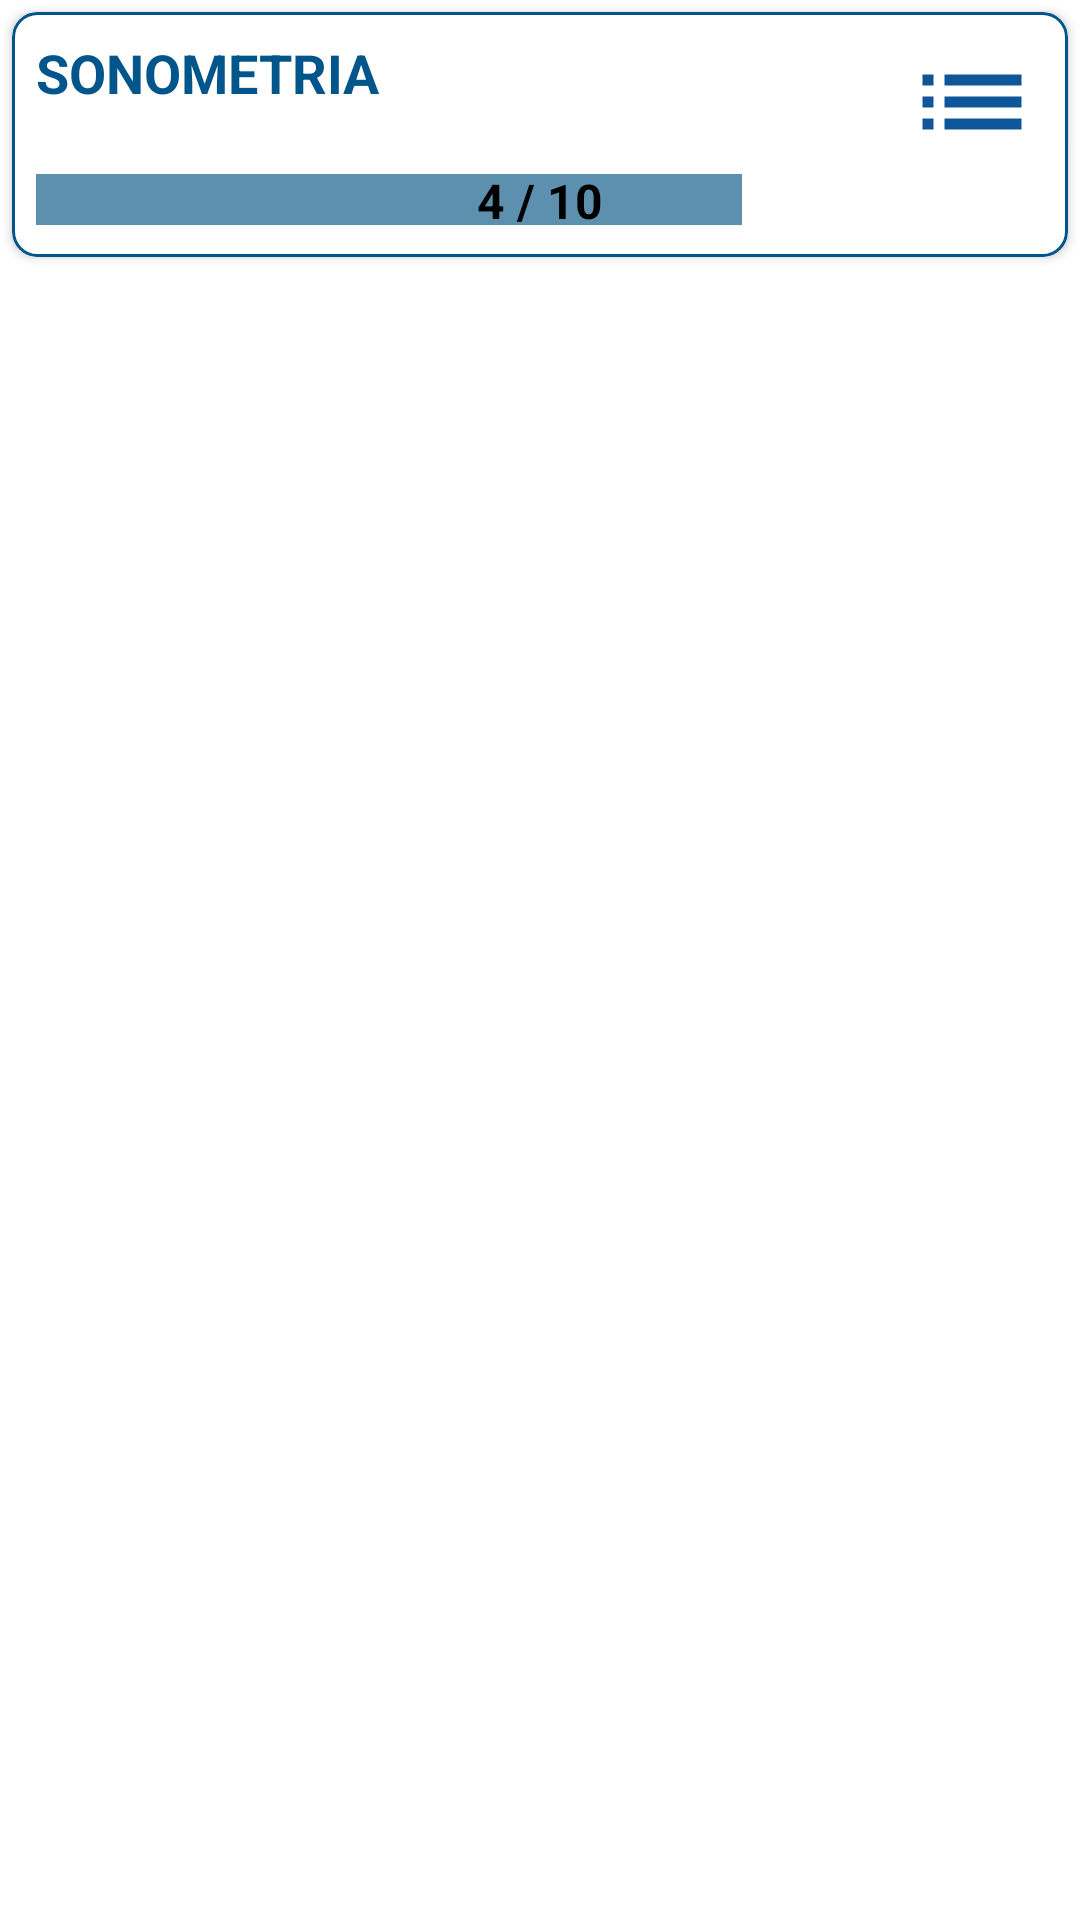

Screen size 1080×1920. Icon name, then its box in pixels as bbox(x1, y1, x2, y2):
list: bbox(922, 74, 1022, 130)
